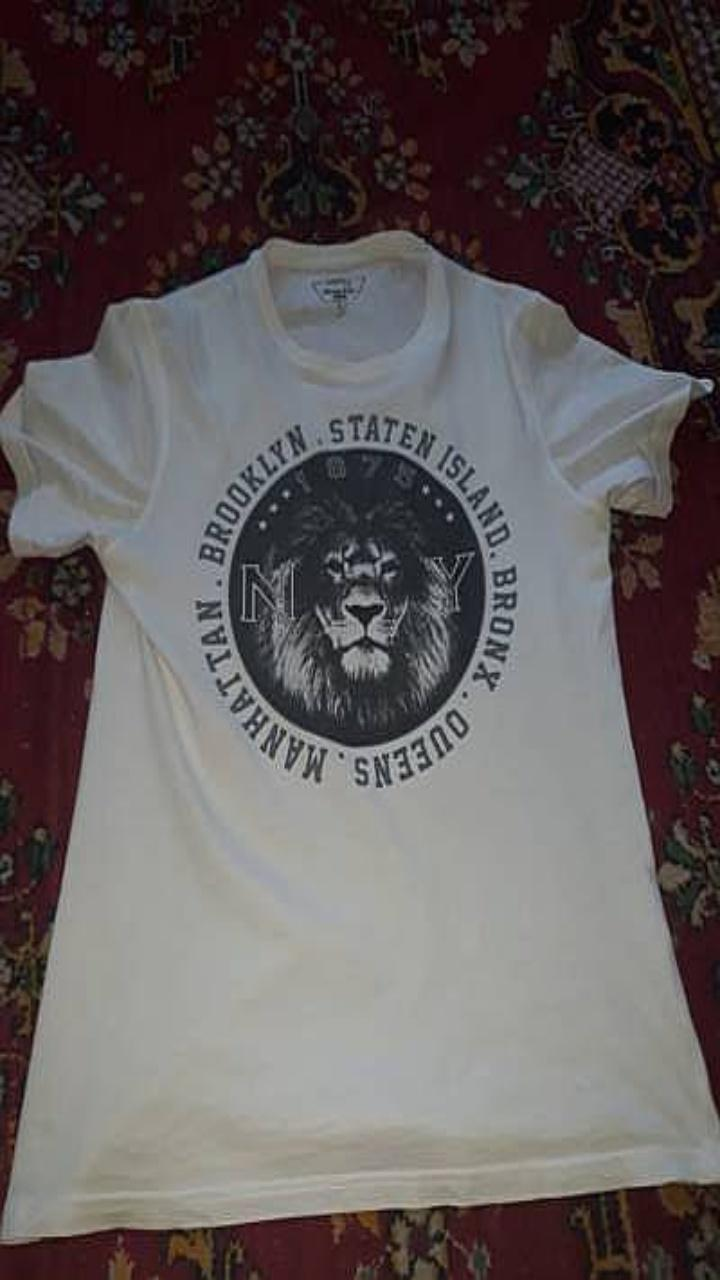T-Shirt: (0, 230, 719, 1239)
